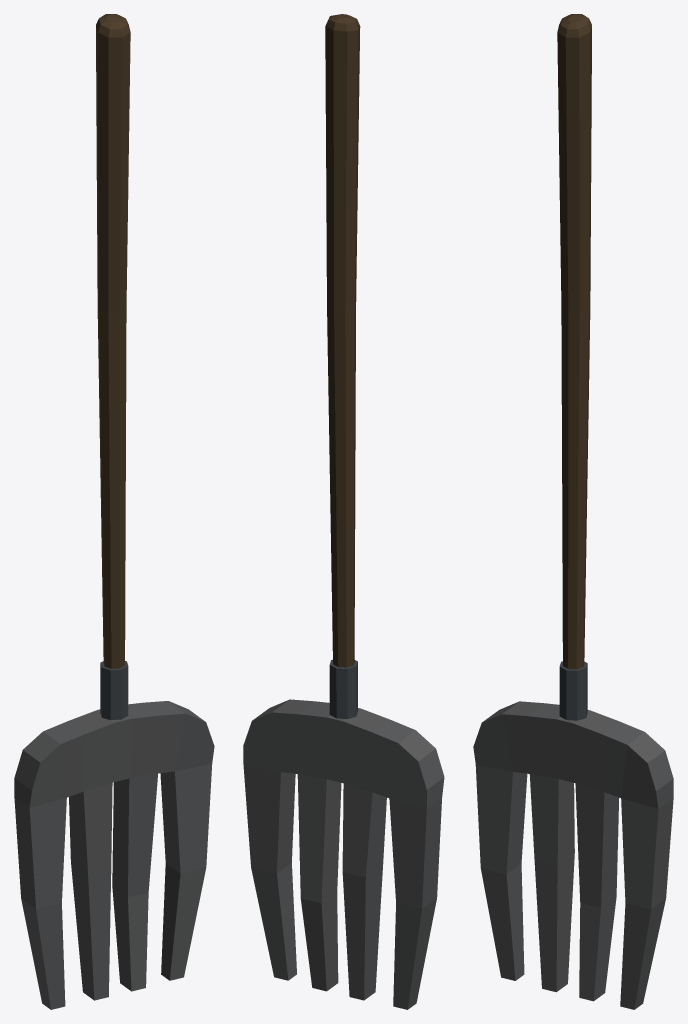
The model's file is Pitchfork_1.fbx.
3 renders of one model, left to right at view 1: azimuth 30°, elevation 25°; view 2: azimuth 150°, elevation 25°; view 3: azimuth 330°, elevation 25°, orthographic.
Visible parts, largest first — view 1: Pitchfork_1; view 2: Pitchfork_1; view 3: Pitchfork_1.
Part boxes in pixels (x1,y1,x2,y2): Pitchfork_1: [14, 14, 214, 1009]; Pitchfork_1: [243, 14, 444, 1009]; Pitchfork_1: [473, 14, 673, 1009].
Size of the model in its own units: 31.4 by 160 by 6.27.
